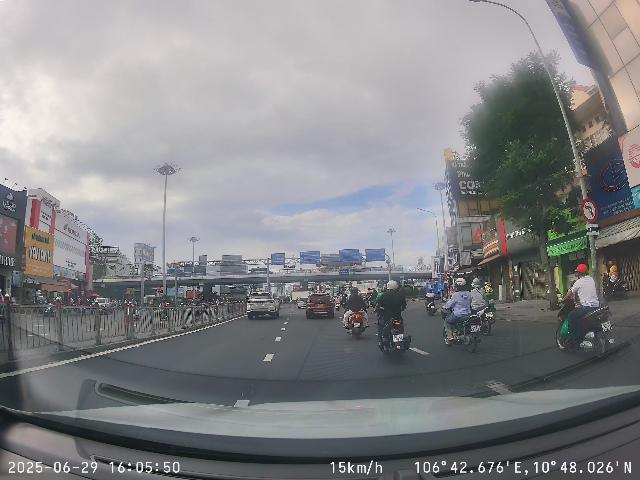123a-cam-re-trai: (581, 198, 598, 223)
